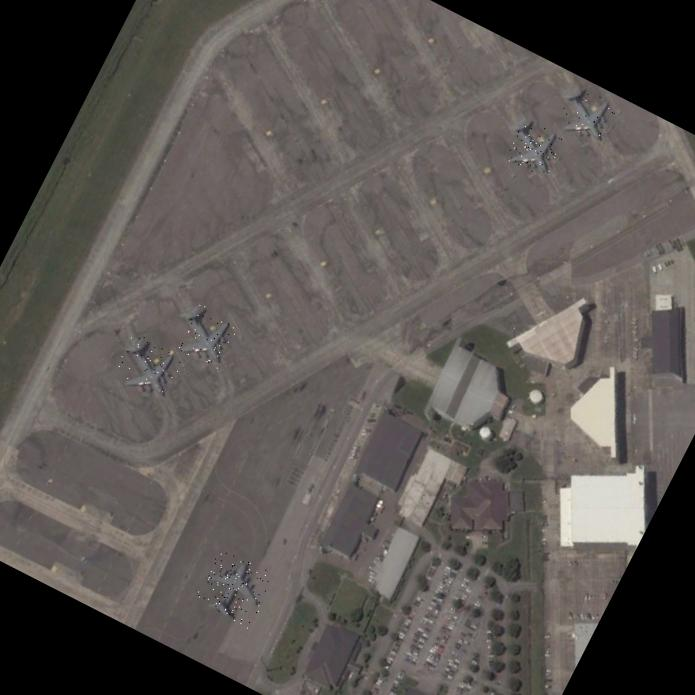A3: (192, 546, 276, 628), (110, 330, 186, 401), (166, 297, 240, 369), (551, 82, 619, 148), (500, 115, 566, 180)
